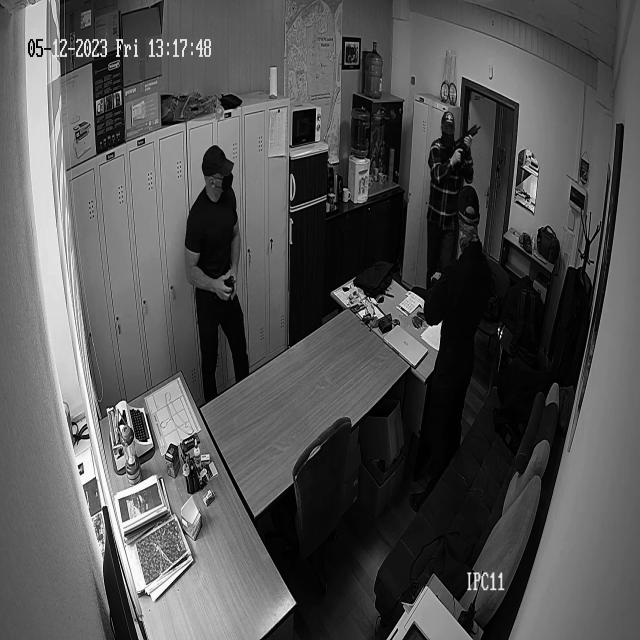gun: (452, 123, 482, 166)
person: (410, 188, 492, 515), (184, 143, 251, 407)
person with a gun: (426, 111, 482, 291)
